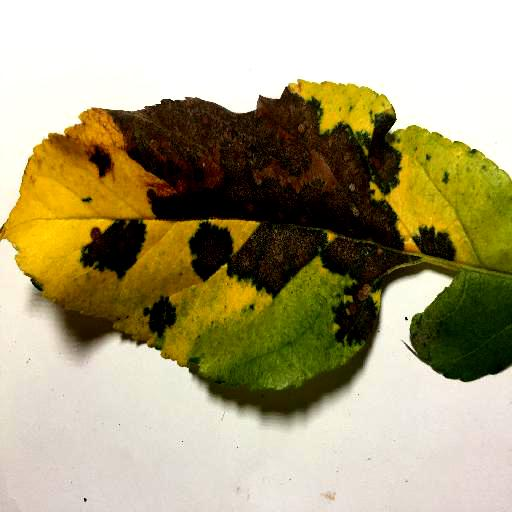Brown_Spot: (71, 107, 409, 225), (230, 221, 324, 297), (327, 233, 414, 280), (85, 222, 151, 271), (328, 284, 378, 345), (187, 222, 230, 280), (414, 221, 459, 256), (149, 300, 175, 339)
